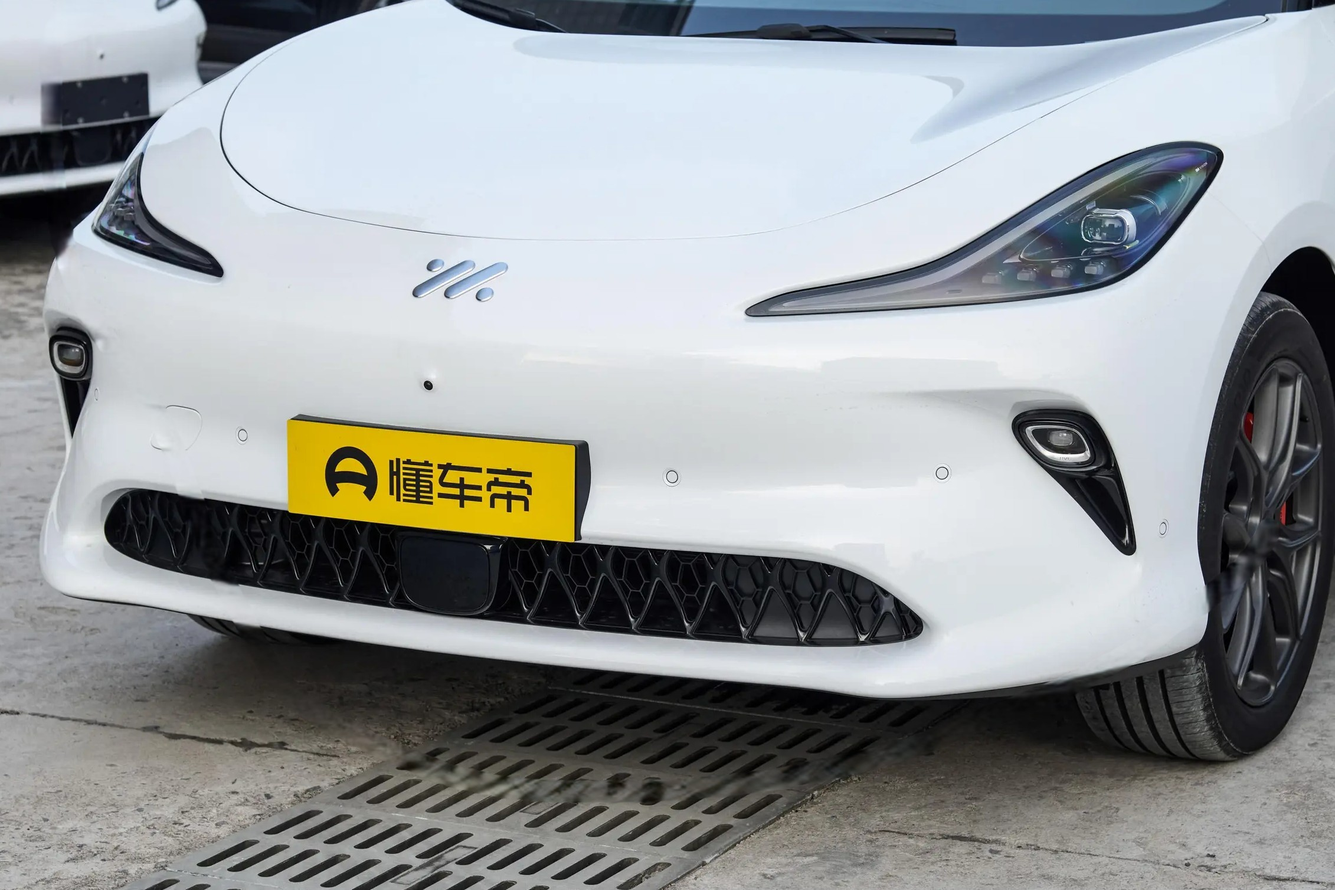IM: (413, 259, 508, 301)
